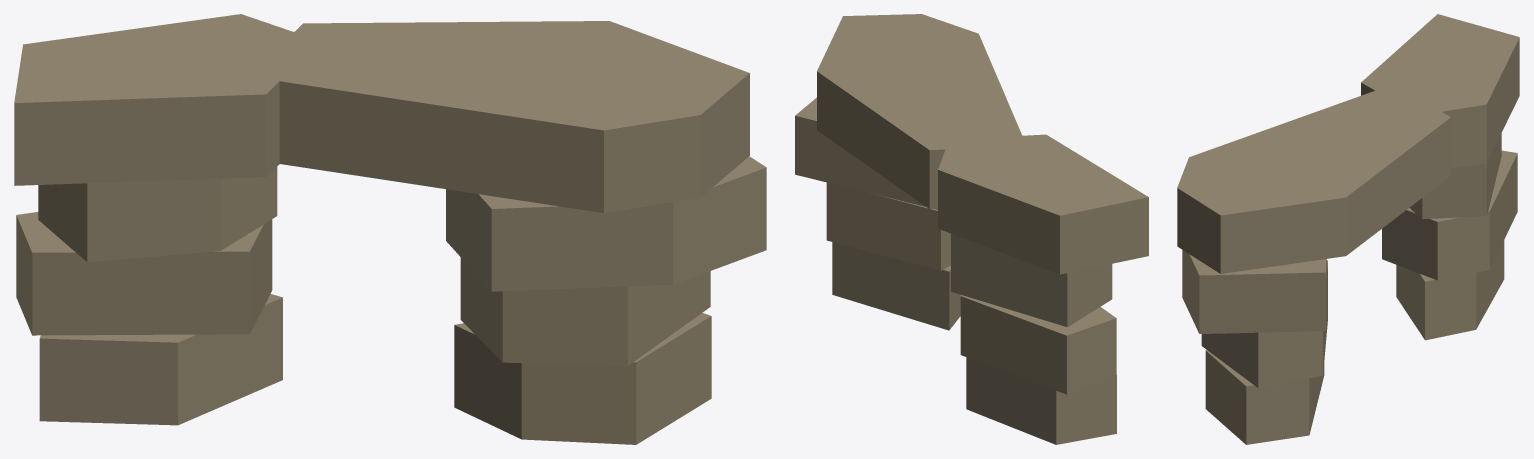
The model's file is 地形块B2.FBX.
The picture shows the model from 3 angles, left to right: view 1: azimuth 30°, elevation 25°; view 2: azimuth 150°, elevation 25°; view 3: azimuth 270°, elevation 25°; orthographic projection. The views are drawn at different scales.
Parts seen in each view (by area): view 1: 地形块B2; view 2: 地形块B2; view 3: 地形块B2.
Part boxes in pixels (x1,y1,x2,y2): 地形块B2: (14,14,766,444); 地形块B2: (795,14,1148,444); 地形块B2: (1177,14,1519,444).
Bounding box in the file's own units: 5.74 × 3.13 × 4.11.
1 material, 1 textured.
